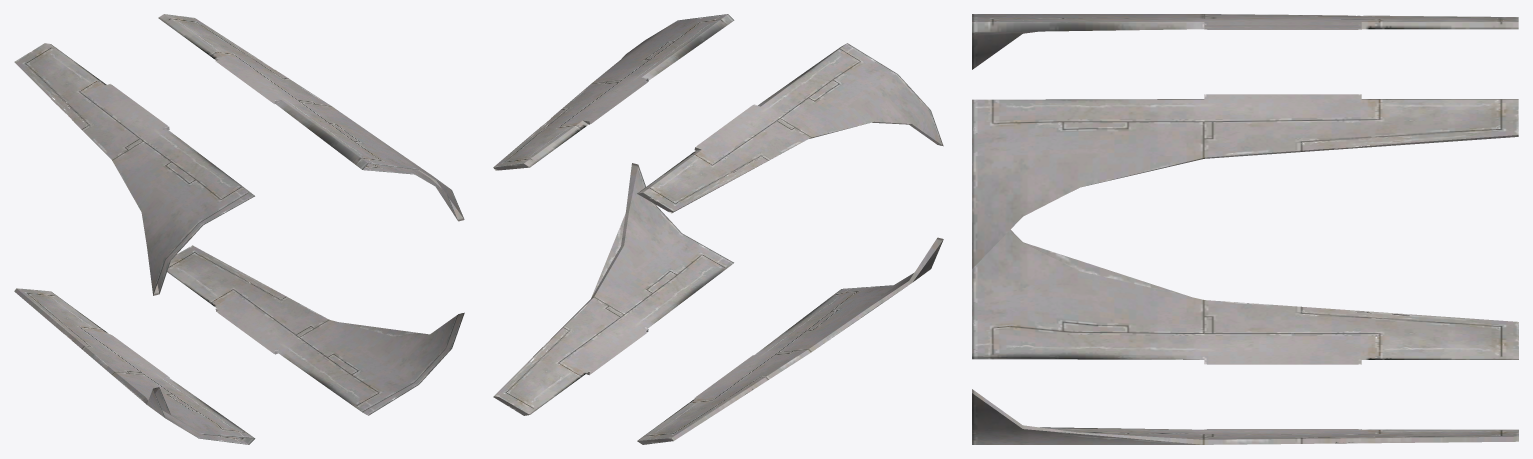
The model's file is hutt_fighter_heavy_engine_s01_l0.fbx.
3 renders of one model, left to right at view 1: azimuth 30°, elevation 25°; view 2: azimuth 150°, elevation 25°; view 3: azimuth 270°, elevation 25°, orthographic. The views are drawn at different scales.
Parts seen in each view (by area): view 1: mesh_node; view 2: mesh_node; view 3: mesh_node.
Boxes of the visible parts, left/top/right/bottom form: mesh_node: left=14, top=14, right=464, bottom=444; mesh_node: left=493, top=14, right=943, bottom=444; mesh_node: left=972, top=14, right=1518, bottom=444.
Size of the model in its own units: 7.65 by 6.22 by 8.69.
Materials: 1 (1 with a texture image).
